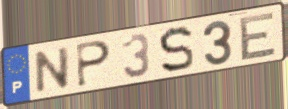3: (119, 32, 151, 81), (201, 18, 233, 67)
E: (238, 9, 278, 63)
N: (34, 44, 72, 96)
P: (75, 39, 113, 89)
S: (157, 25, 196, 75)
